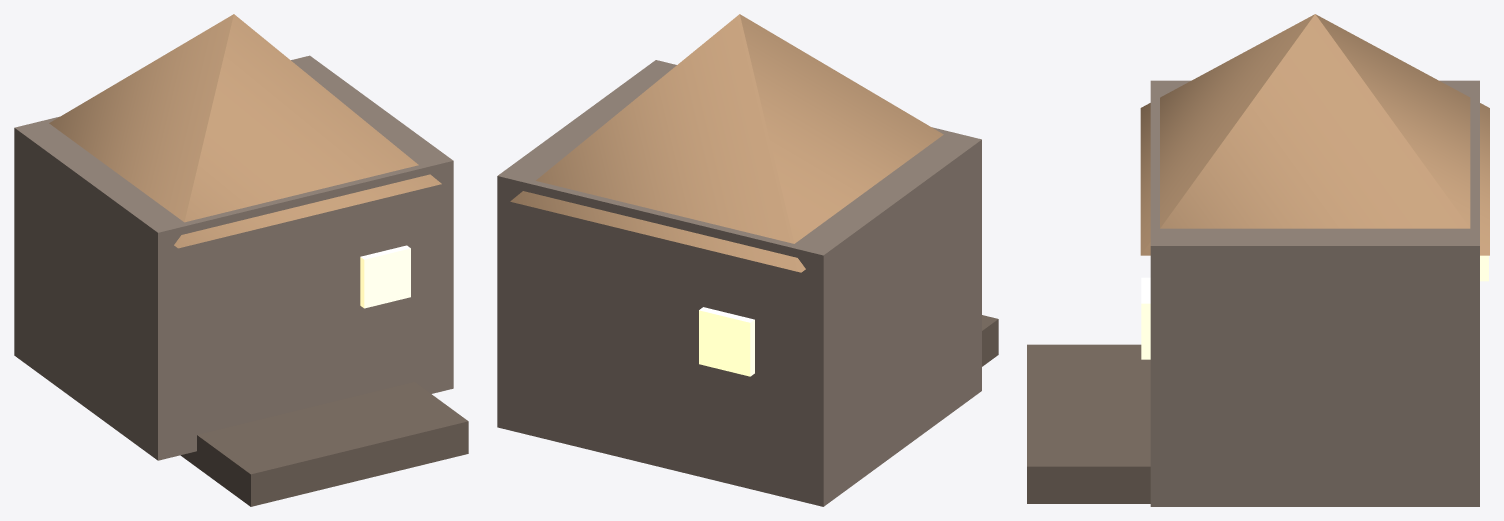
The model's file is habitat.glb.
The picture shows the model from 3 angles, left to right: view 1: azimuth 30°, elevation 25°; view 2: azimuth 150°, elevation 25°; view 3: azimuth 270°, elevation 25°; orthographic projection. The views are drawn at different scales.
Bounding box in the file's own units: 1.9 × 2.3 × 2.25.
